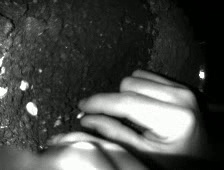corn: (23, 100, 40, 117), (18, 78, 32, 91), (75, 109, 88, 119)
